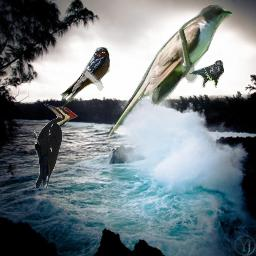Crow: (188, 60, 224, 88)
Cuckoo: (106, 5, 232, 139)
Swallow: (60, 47, 110, 110)
Woodpecker: (34, 103, 79, 188)
